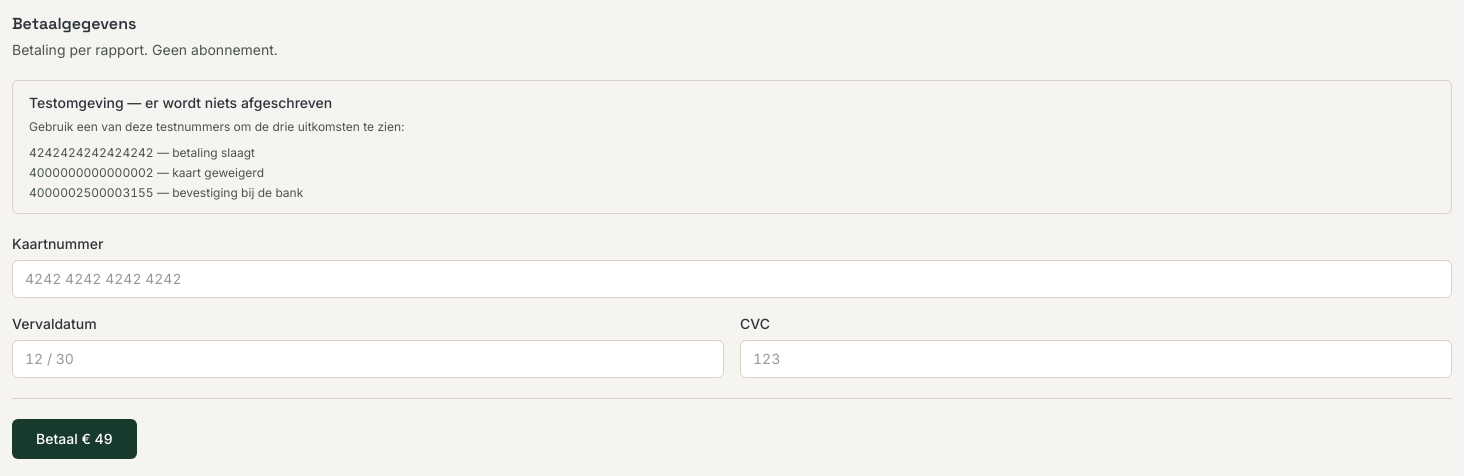
Test: PaymentForm - paid, but the release refused › explains that nothing is lost and offers a way to reach a person
Type "4242424242424242" into the field labelled "Kaartnummer" at point(732, 278), box x1=12 y1=260 x2=1452 y2=298
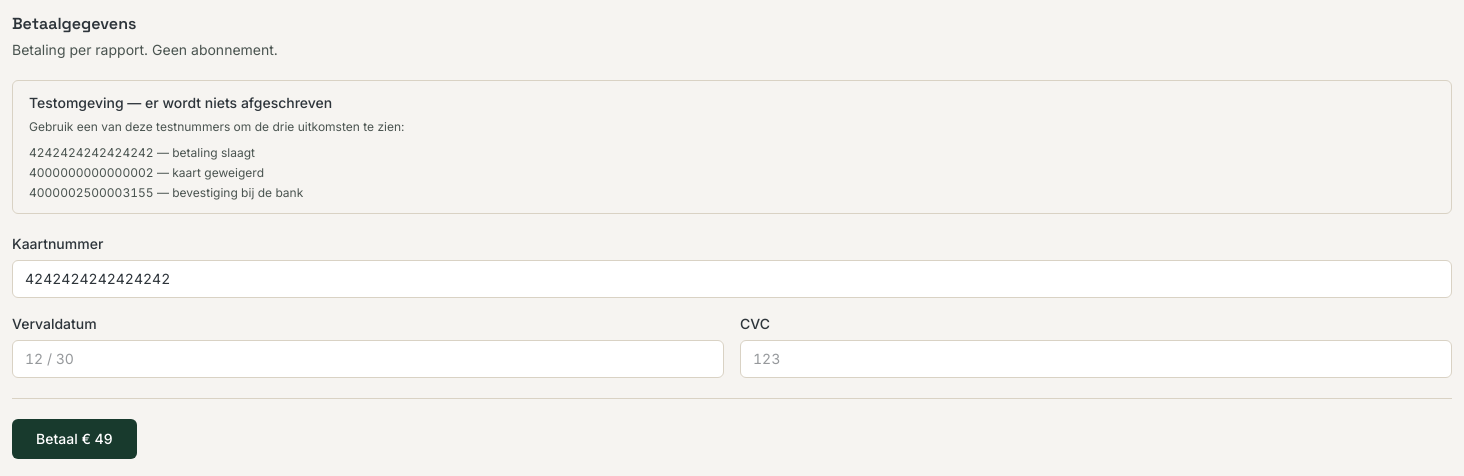
Click the button "Betaal € 49" at point(74, 438), box x1=12 y1=418 x2=137 y2=458
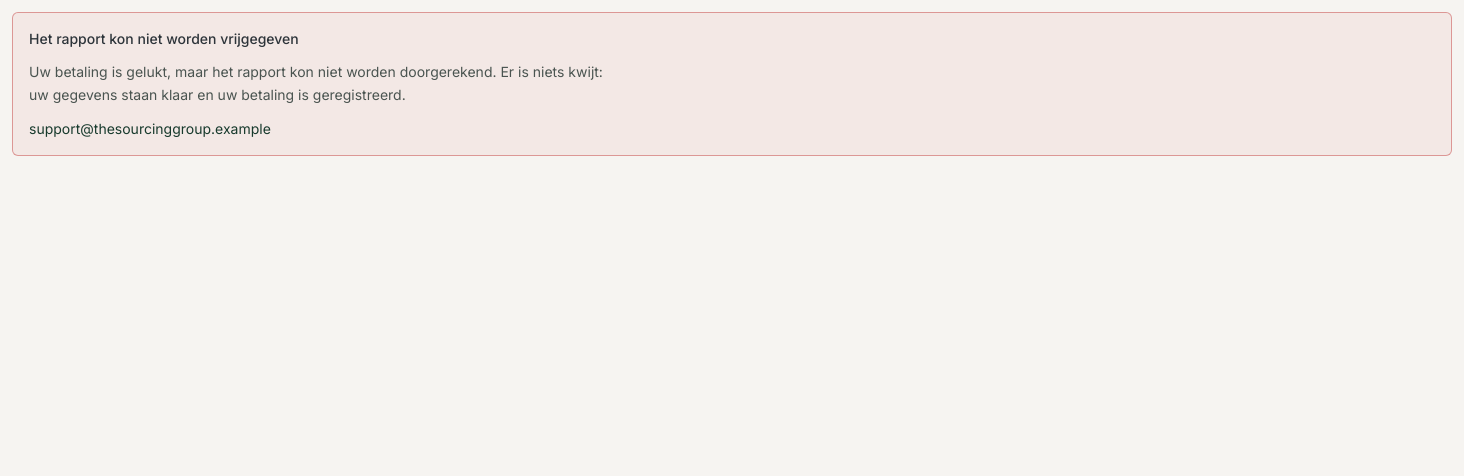
expect the text "Het rapport kon niet worden vrijgegeven" is shown: met, box x1=29 y1=30 x2=299 y2=47
expect the message shows "niets kwijt": met, box x1=29 y1=63 x2=603 y2=103
